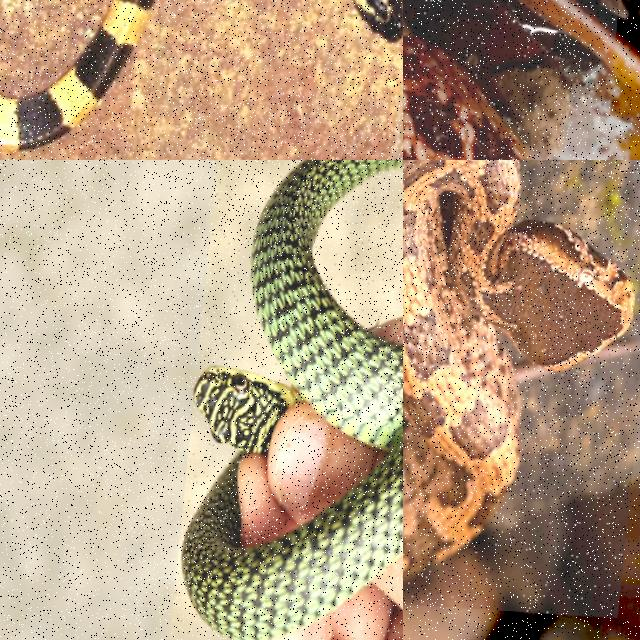Bungarus fasciatus: (0, 0, 153, 149)
Chrysopelea ornata: (182, 160, 402, 639)
Ovophis monticola: (403, 160, 639, 577), (403, 36, 530, 159)
